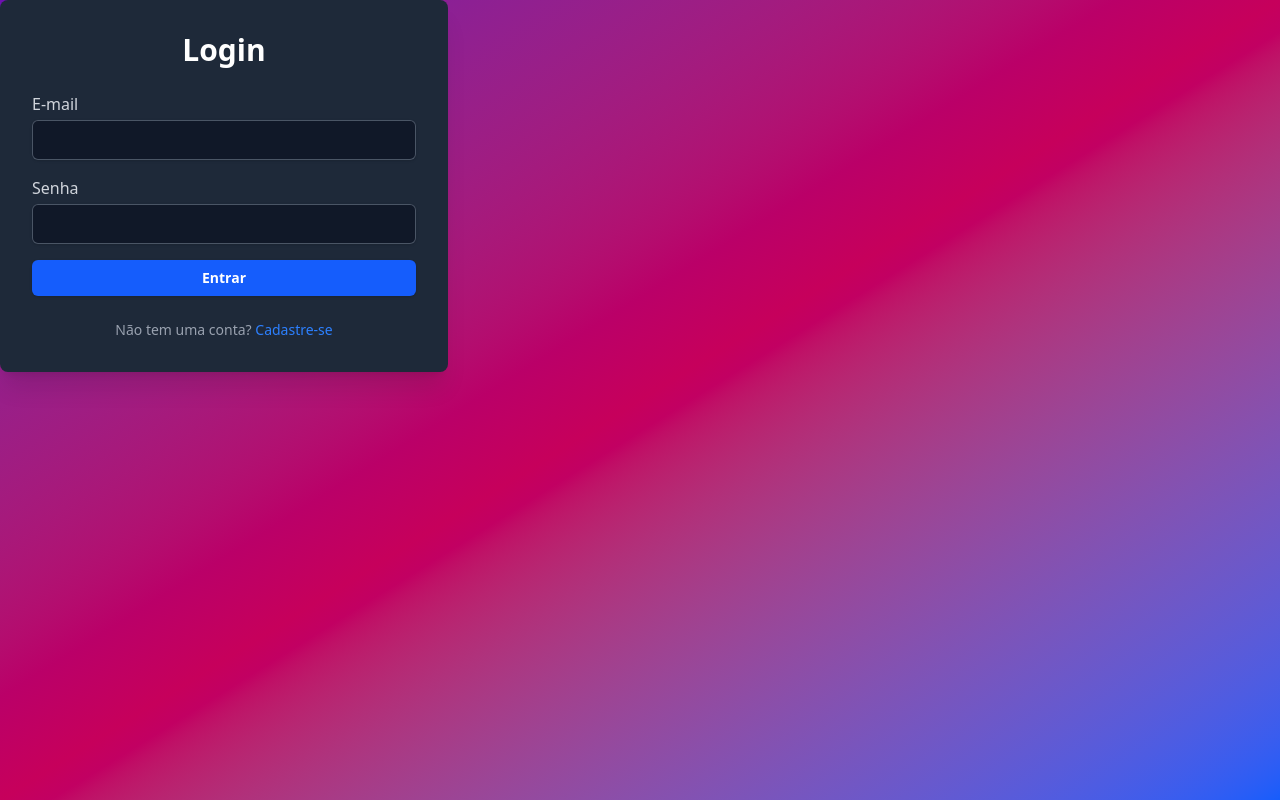
Test case: LoginPage › should display validation errors when submitting empty fields
The width and height of the screenshot is (1280, 800).
Click the button "Entrar" at [224, 278], box top-left (32, 260), bottom-right (416, 296)
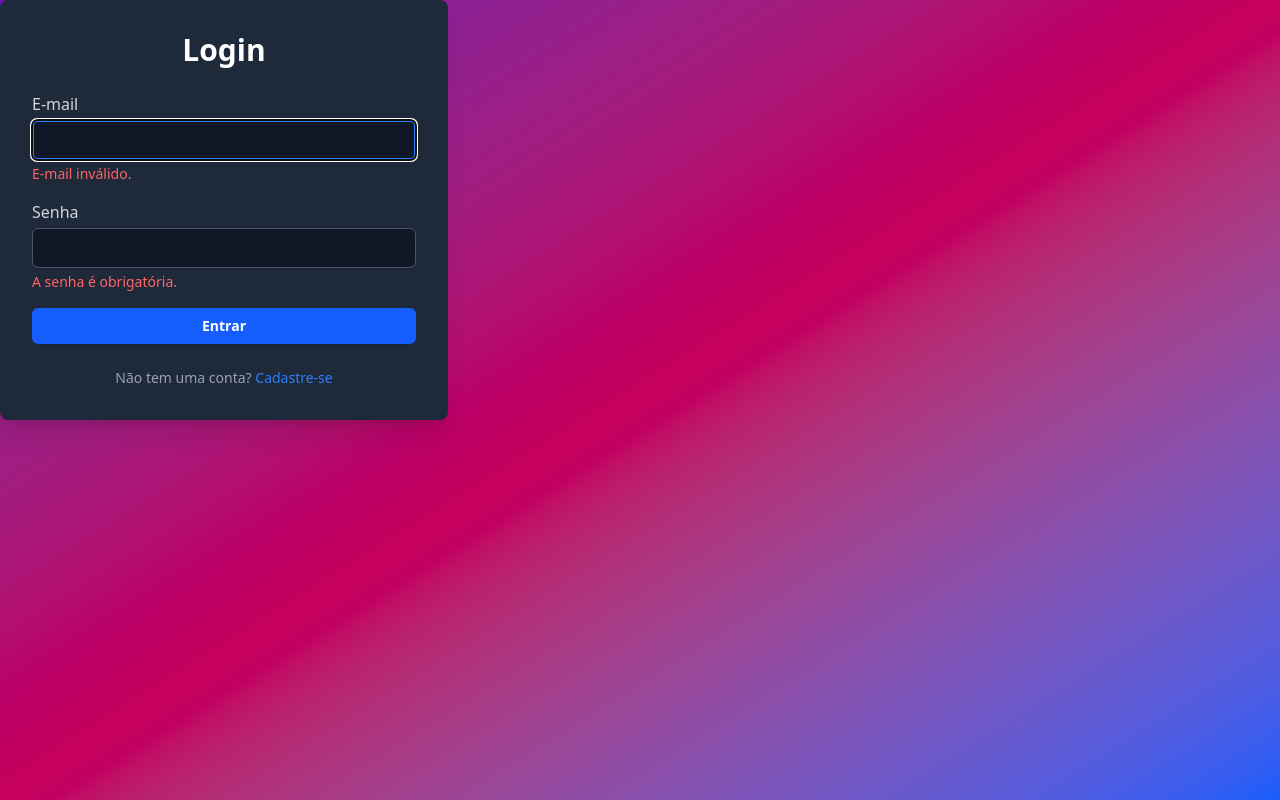
Check: the text "E-mail inválido." is shown, box top-left (32, 164), bottom-right (131, 183)
Check: the text "A senha é obrigatória." is shown, box top-left (32, 272), bottom-right (177, 291)
